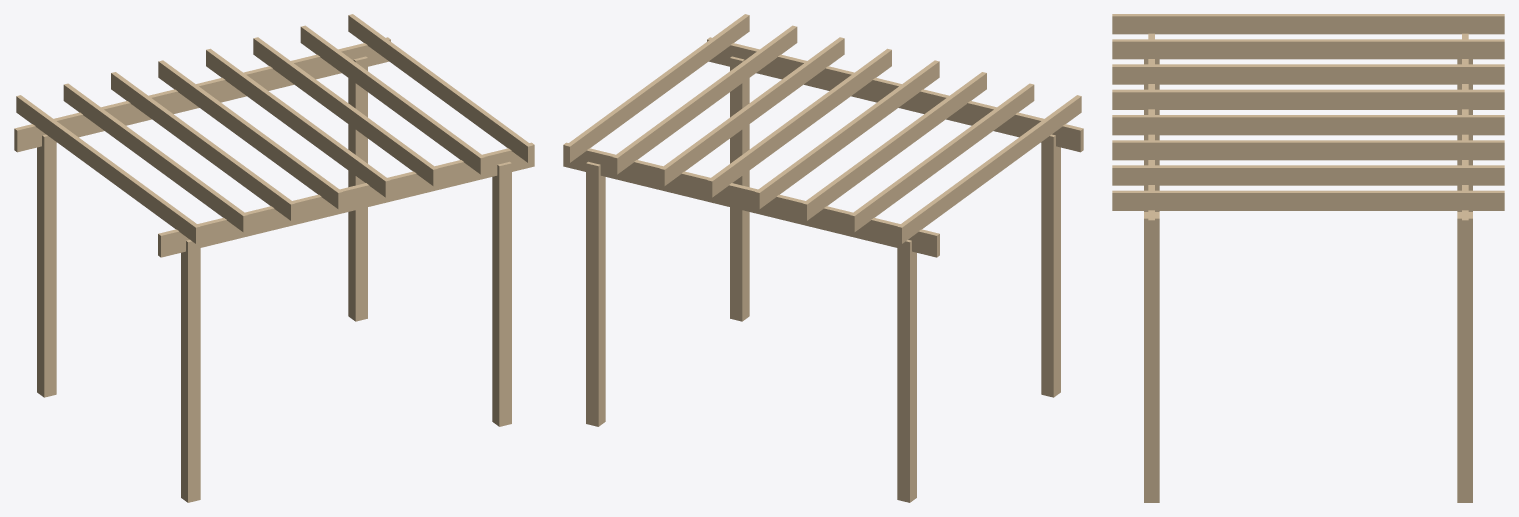
Rendered from street.garden.pergola.glb.
The picture shows the model from 3 angles, left to right: view 1: azimuth 30°, elevation 25°; view 2: azimuth 150°, elevation 25°; view 3: azimuth 270°, elevation 25°; orthographic projection. The views are drawn at different scales.
Parts seen in each view (by area): view 1: main__softwood; view 2: main__softwood; view 3: main__softwood.
Part boxes in pixels (left/top/right/bottom): main__softwood: left=14, top=14, right=534, bottom=502; main__softwood: left=563, top=14, right=1083, bottom=502; main__softwood: left=1112, top=14, right=1504, bottom=502.
Bounding box in the file's own units: 3.6 × 2.64 × 3.
